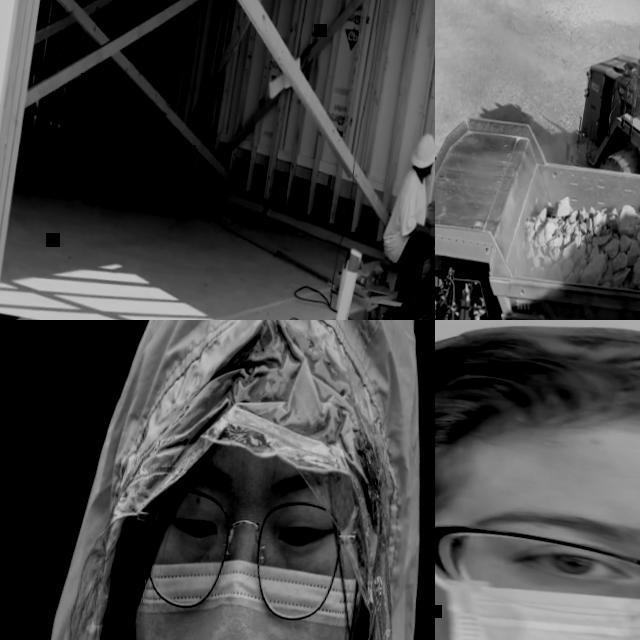Hardhat: (409, 126, 435, 170)
Mask: (99, 541, 368, 640), (435, 558, 640, 640)
NO-Hardhat: (123, 320, 432, 494), (435, 320, 640, 547)
NO-Mask: (423, 164, 432, 174)
NO-Safety Vest: (389, 170, 432, 245)
Person: (0, 320, 435, 640), (435, 320, 640, 640), (365, 124, 435, 320)
machinery: (435, 96, 640, 320), (540, 11, 640, 320)
